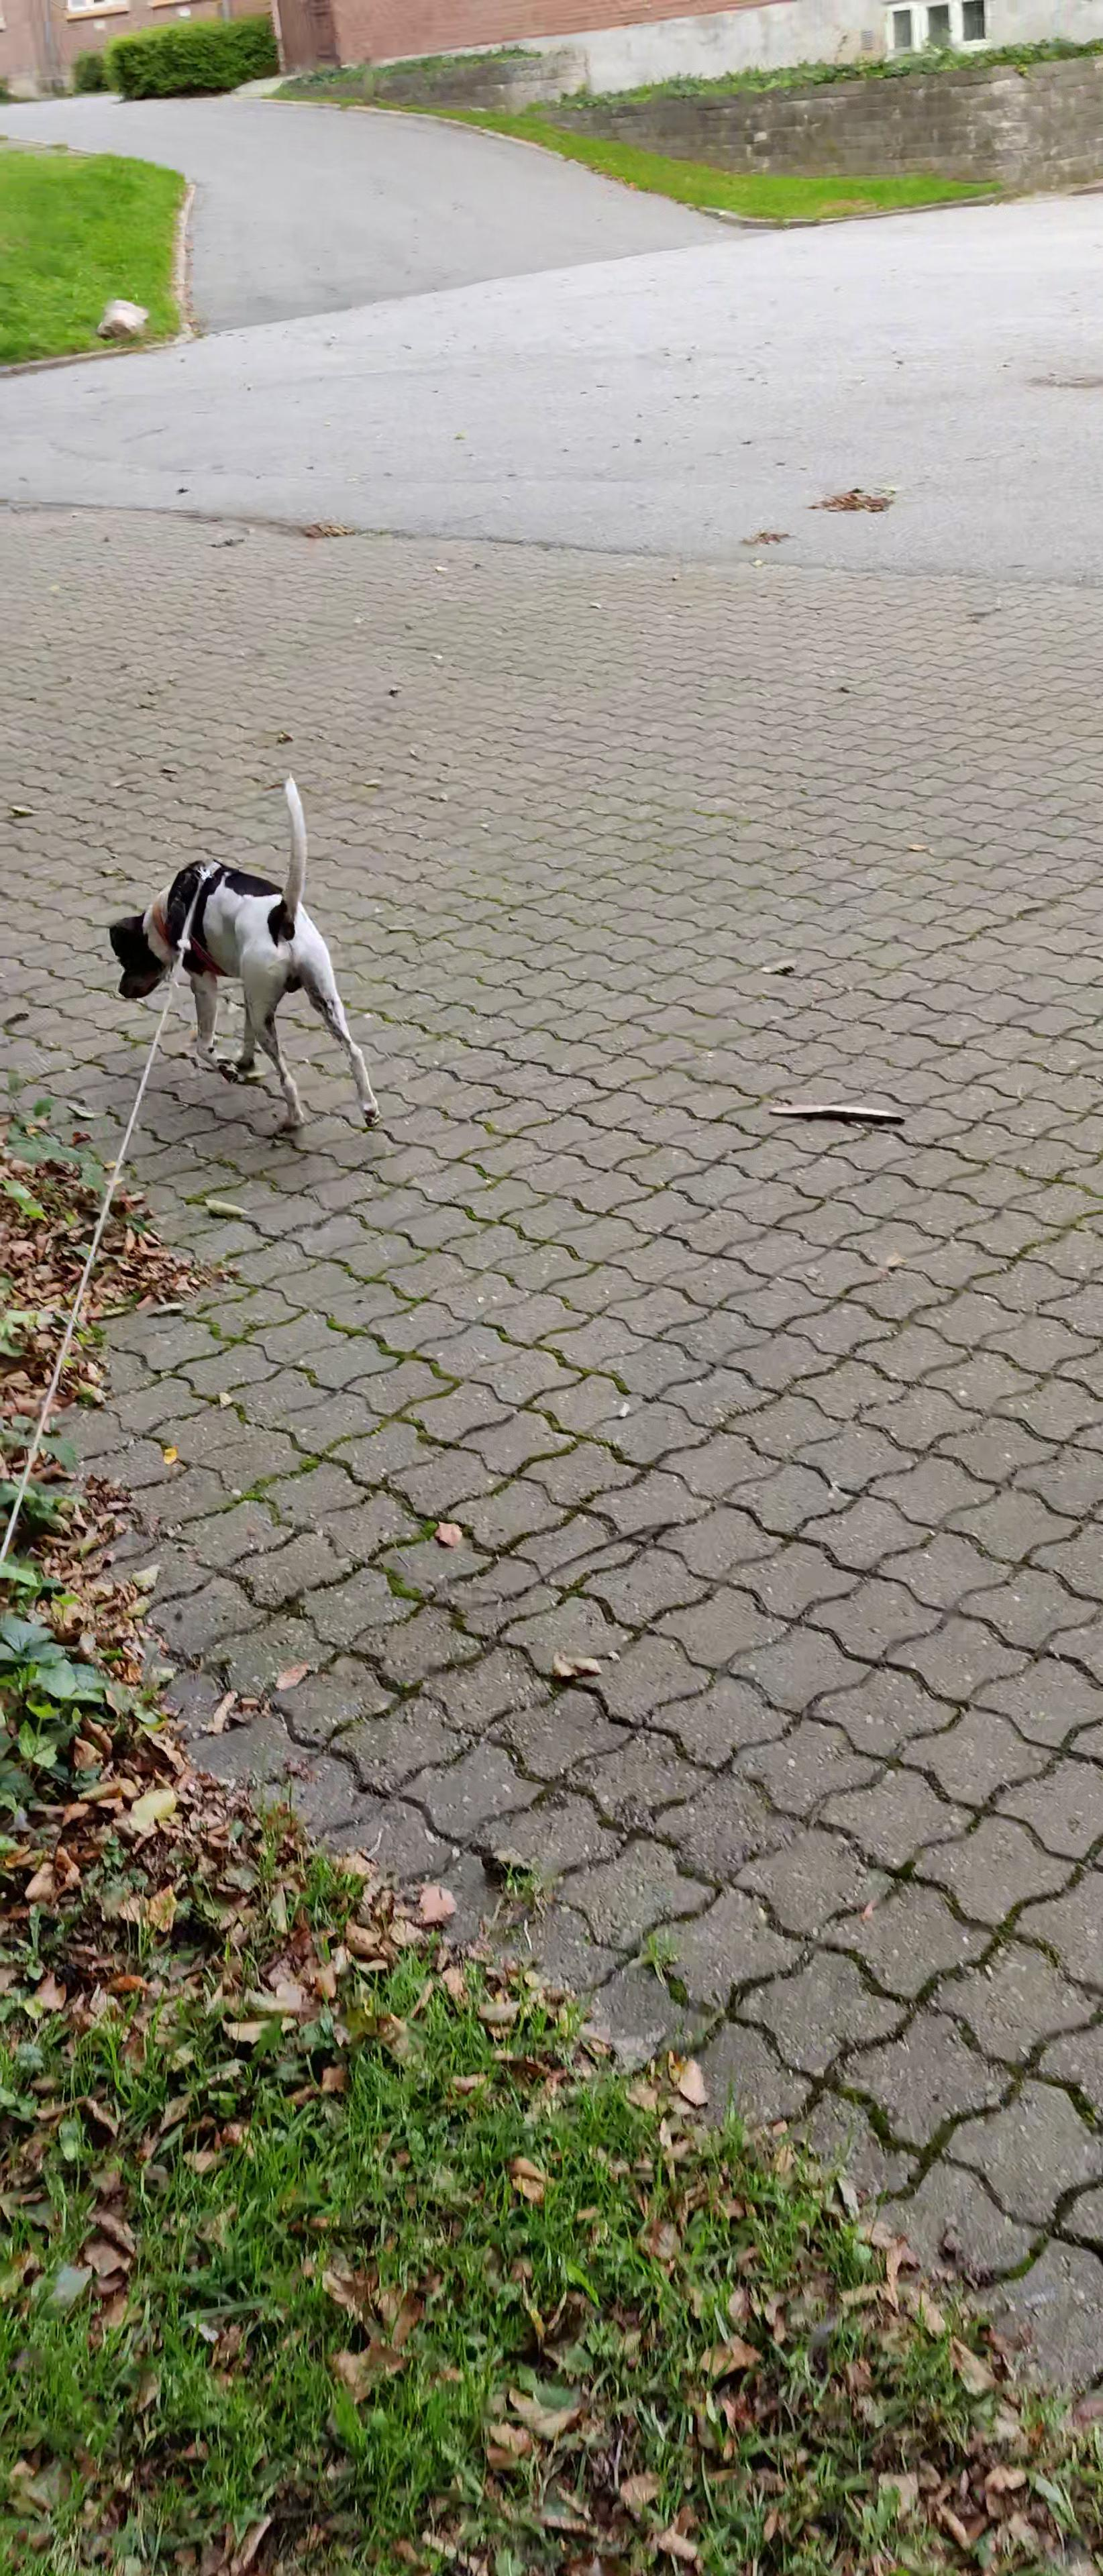Dog: (72, 762, 393, 1173)
